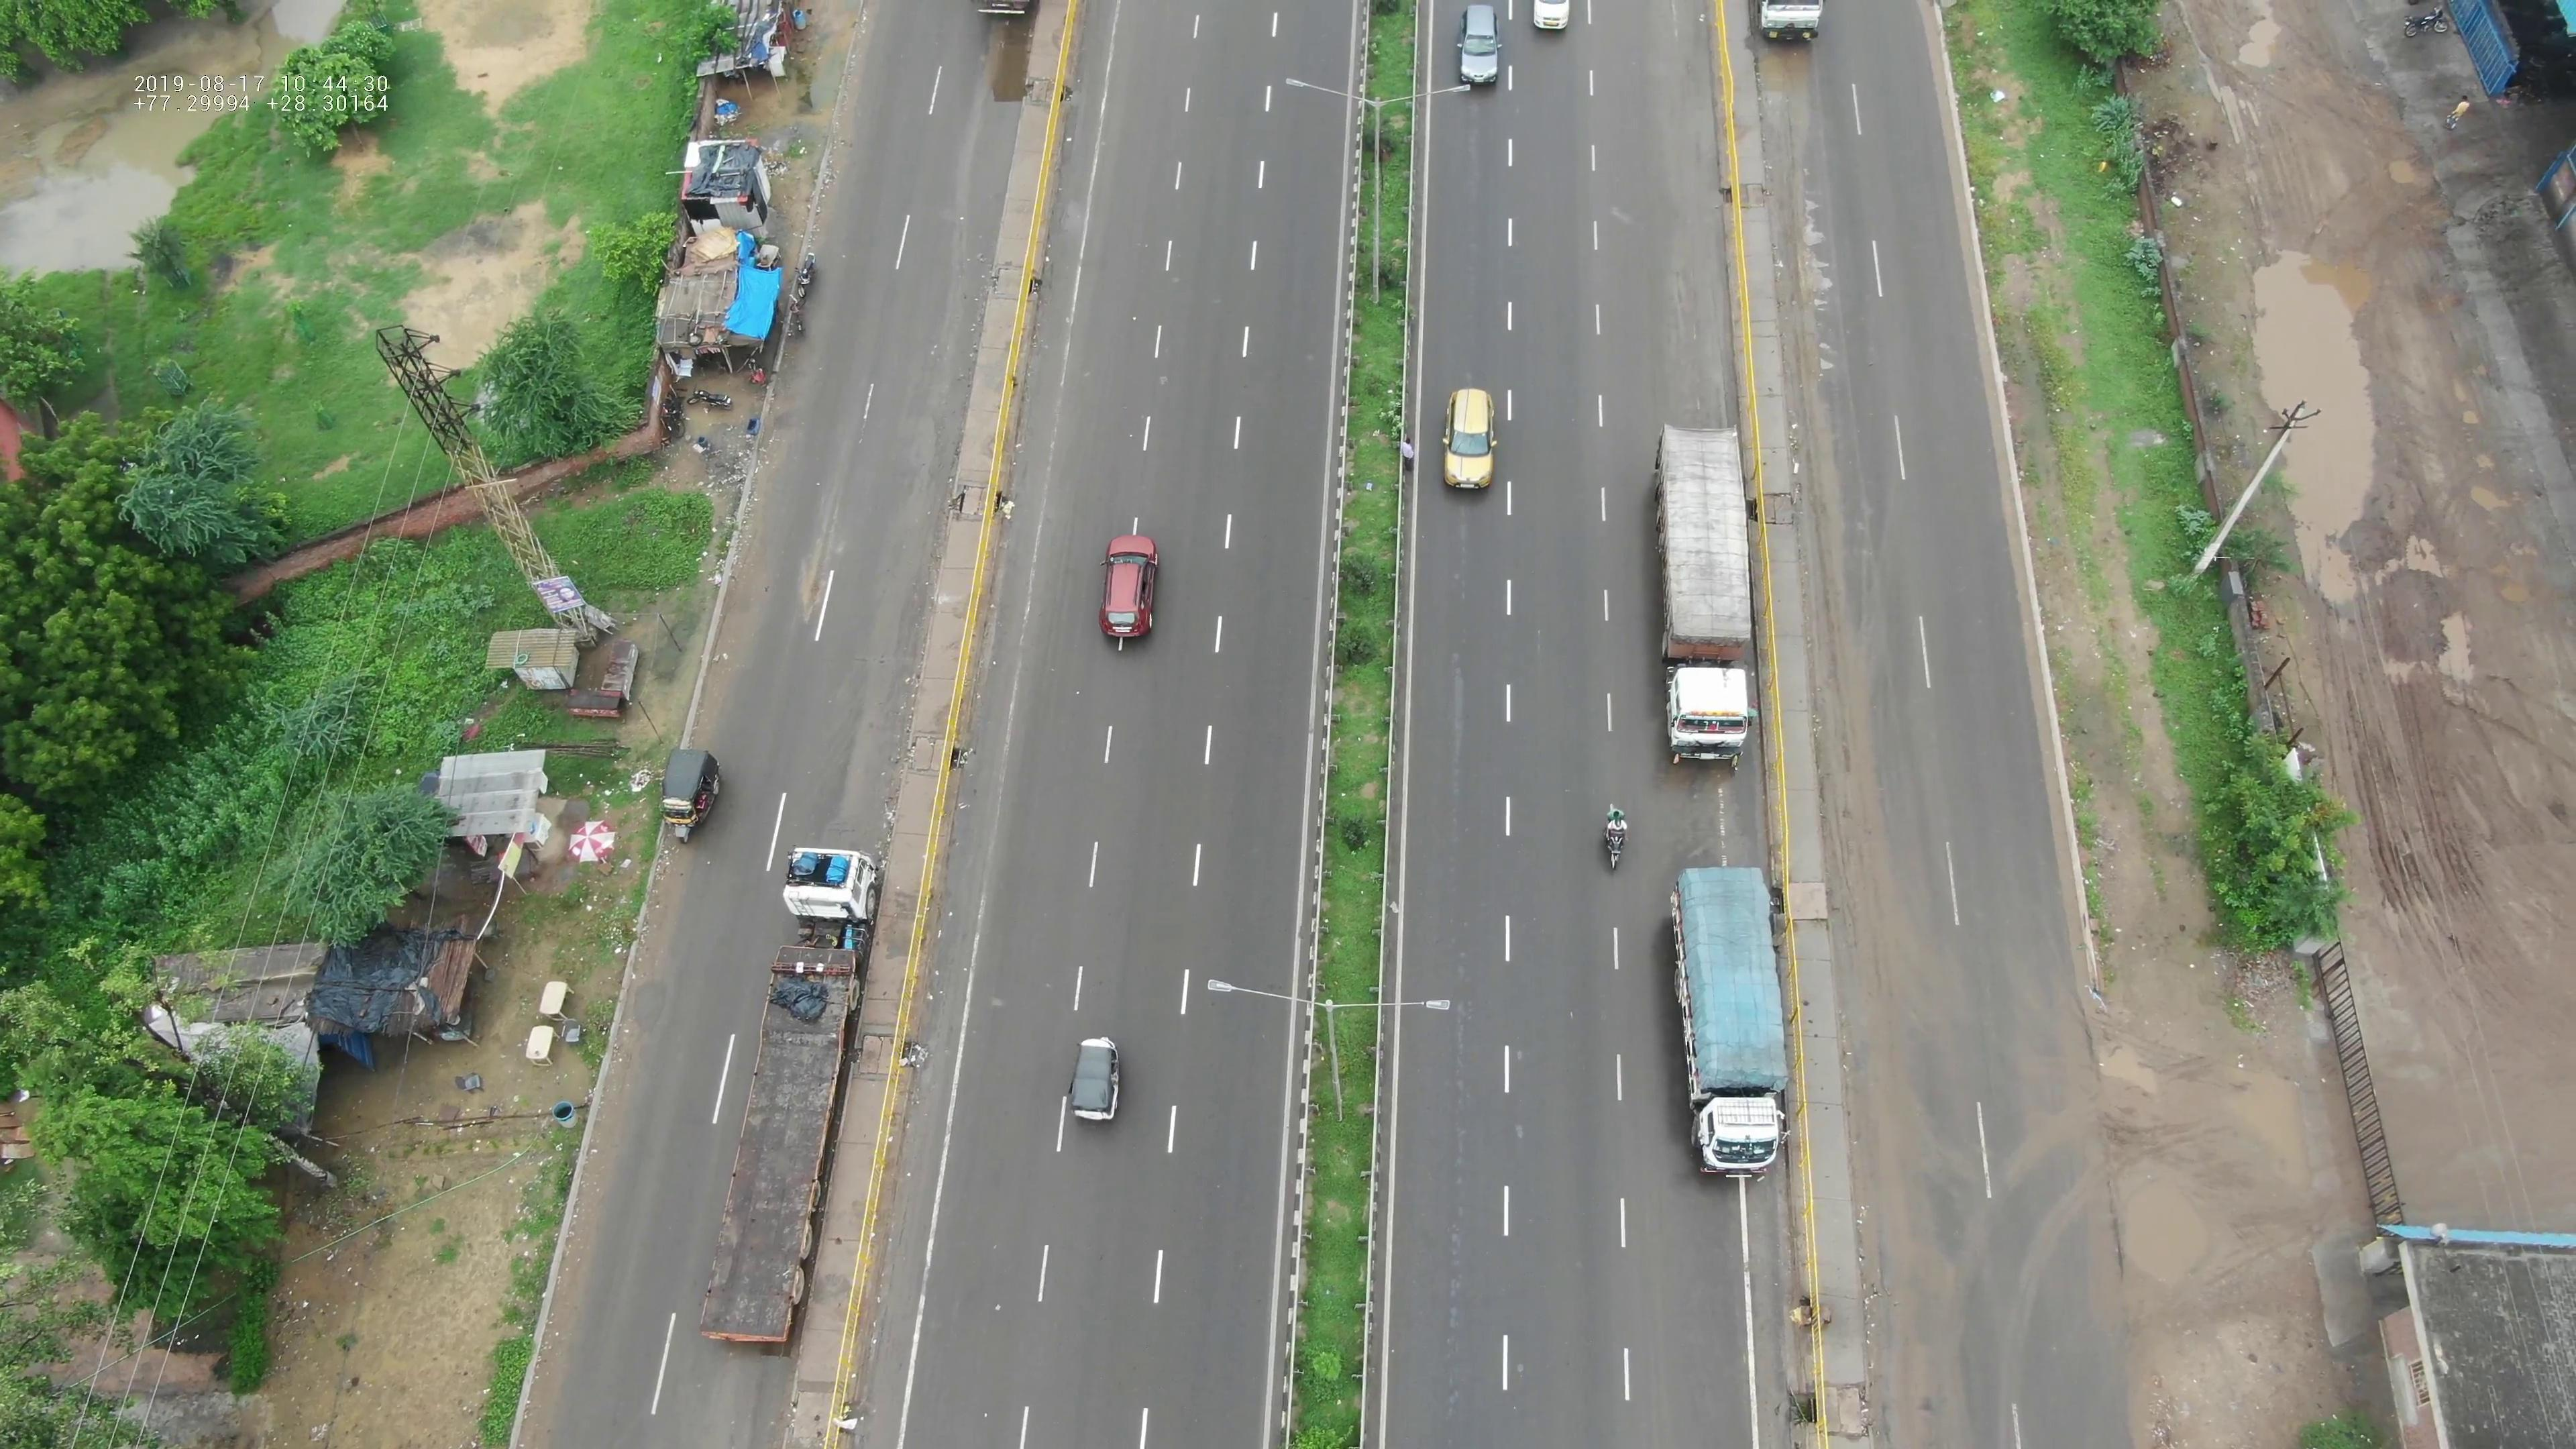Waterlogging: (2240, 260, 2396, 605), (1833, 807, 1902, 1051)
